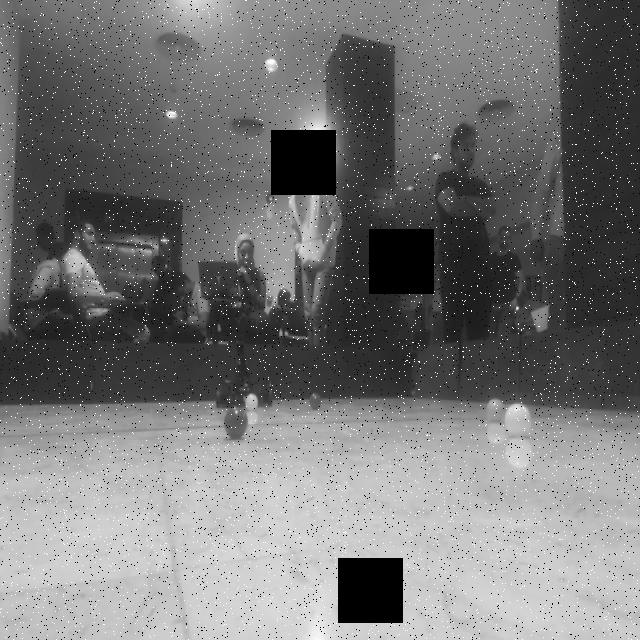ball: (501, 400, 534, 442), (222, 404, 250, 438), (485, 396, 507, 425), (240, 391, 262, 414), (306, 388, 324, 414)
